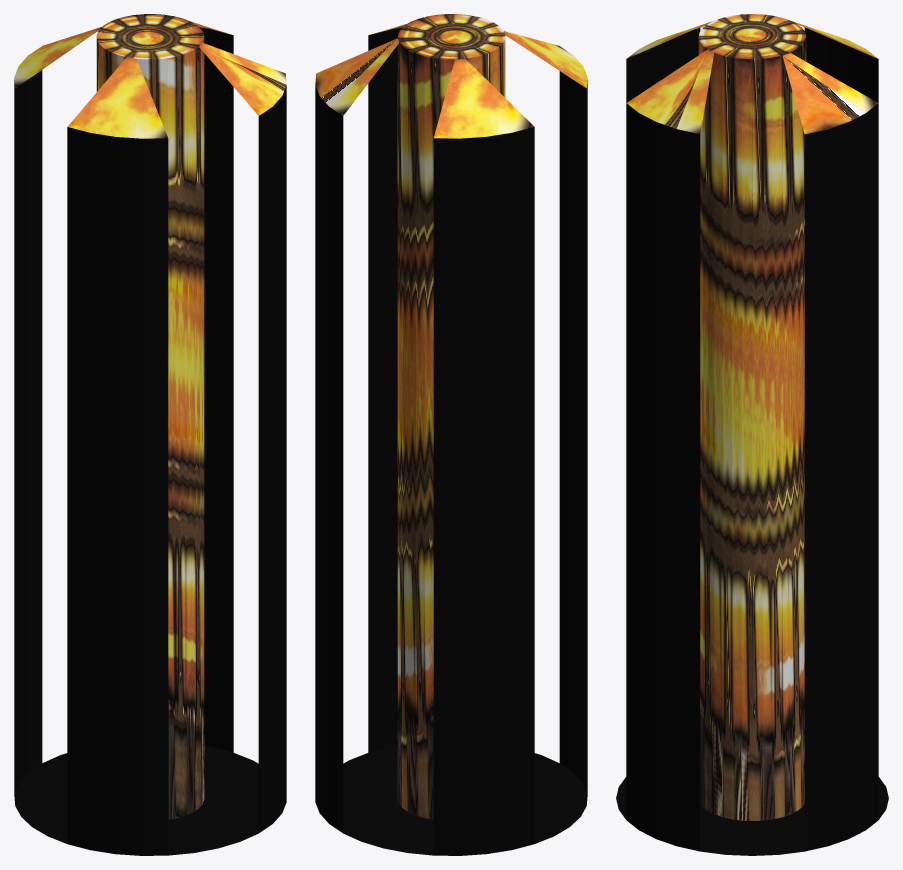
File: Reactor2.fbx
The picture shows the model from 3 angles, left to right: view 1: azimuth 30°, elevation 25°; view 2: azimuth 150°, elevation 25°; view 3: azimuth 270°, elevation 25°; orthographic projection.
Parts seen in each view (by area): view 1: Cylinder; view 2: Cylinder; view 3: Cylinder.
Part boxes in pixels (x1,y1,x2,y2): Cylinder: (14, 14, 286, 855); Cylinder: (315, 14, 587, 855); Cylinder: (616, 14, 888, 855).
Bounding box in the file's own units: 100 × 308 × 100.
